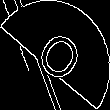O_SW: (25, 21, 85, 89)
